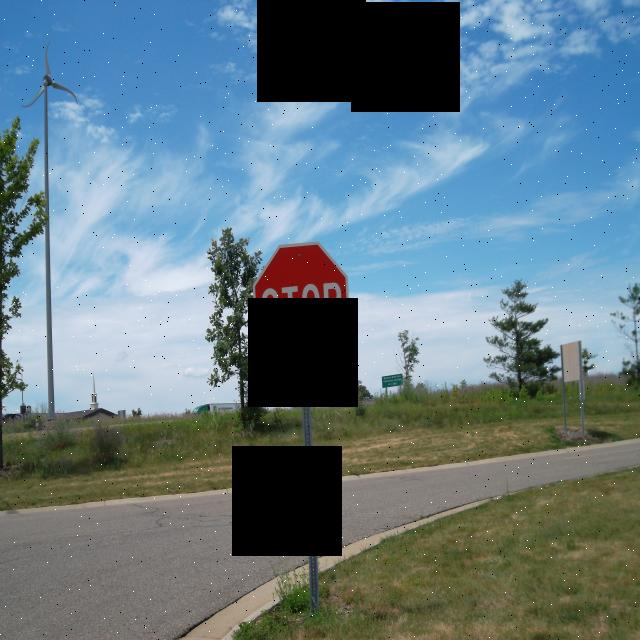stop: (247, 241, 354, 375)
